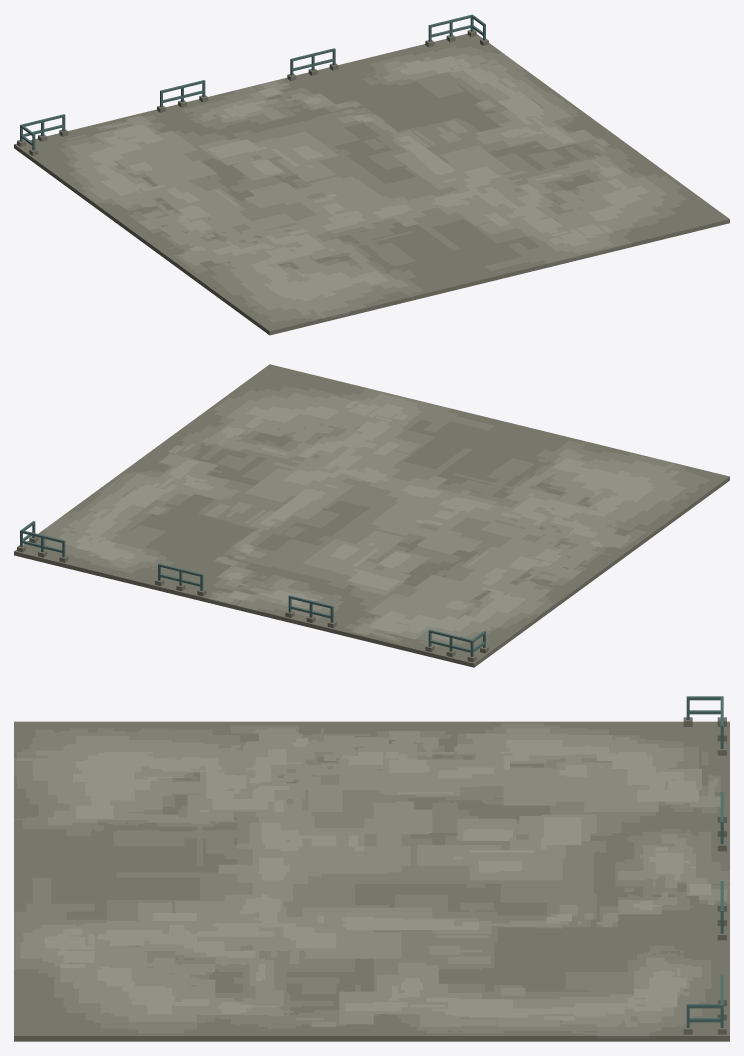
File: Map-10.obj
3 views of the same model, one above another, from view 1: azimuth 30°, elevation 25°; view 2: azimuth 150°, elevation 25°; view 3: azimuth 270°, elevation 25° (orthographic). The views are drawn at different scales.
Bounding box in the file's own units: 24 × 1.2 × 23.1.
1 material, 1 textured.
